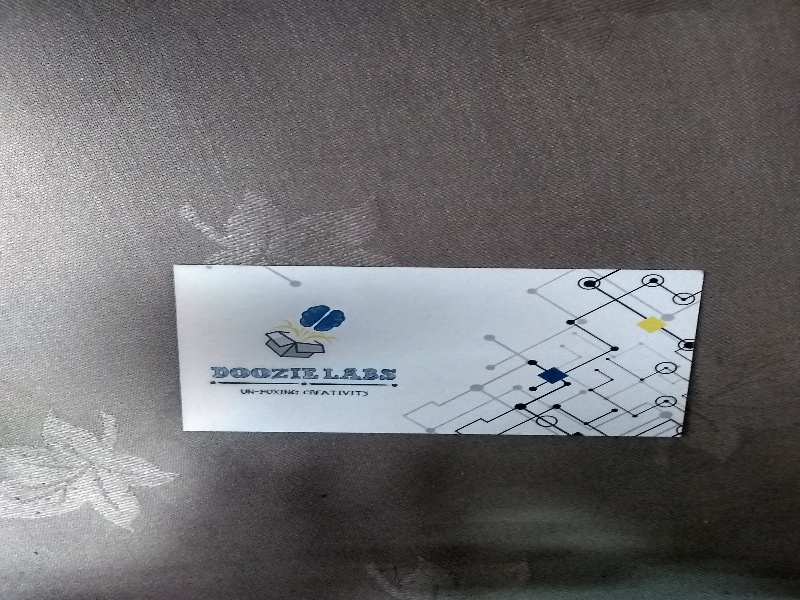back: (167, 258, 703, 443)
